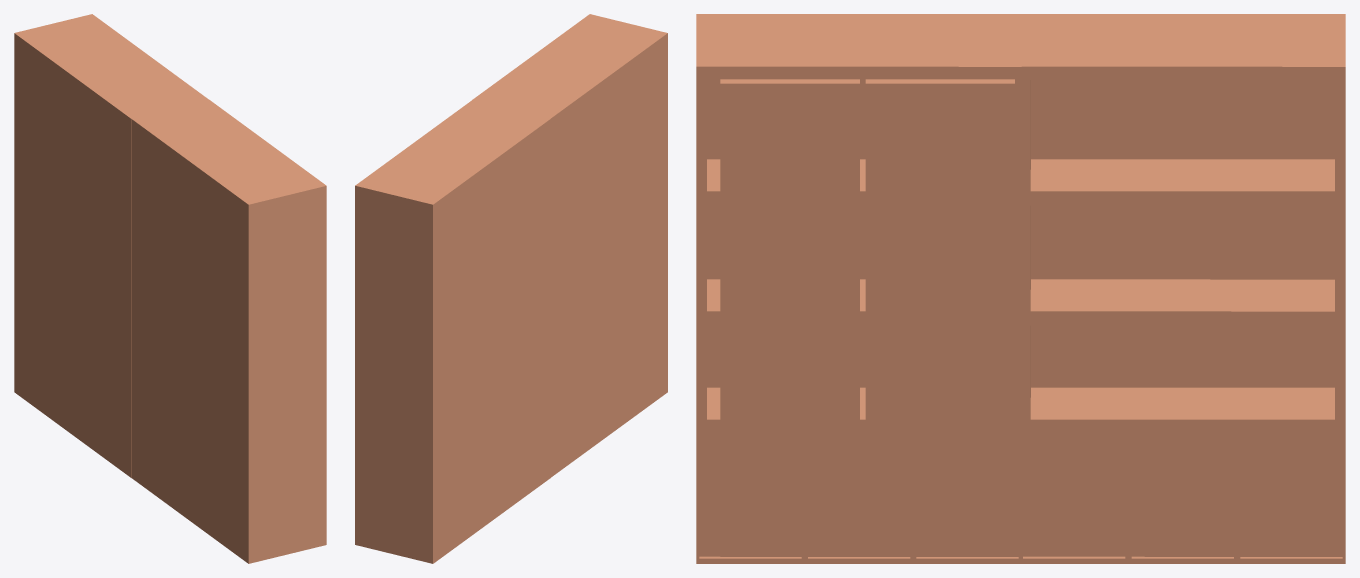
The model's file is Cabinet.glb.
3 views of the same model, side by side, from view 1: azimuth 30°, elevation 25°; view 2: azimuth 150°, elevation 25°; view 3: azimuth 270°, elevation 25° (orthographic). The views are drawn at different scales.
Parts seen in each view (by area): view 1: Cube.026; view 2: Cube.026; view 3: Cube.026.
Boxes of the visible parts, x1,y1,x2,y2 form: Cube.026: (14,14,326,563); Cube.026: (355,14,667,563); Cube.026: (696,14,1345,563).
Size of the model in its own units: 0.5047 by 2.03 by 2.4.
